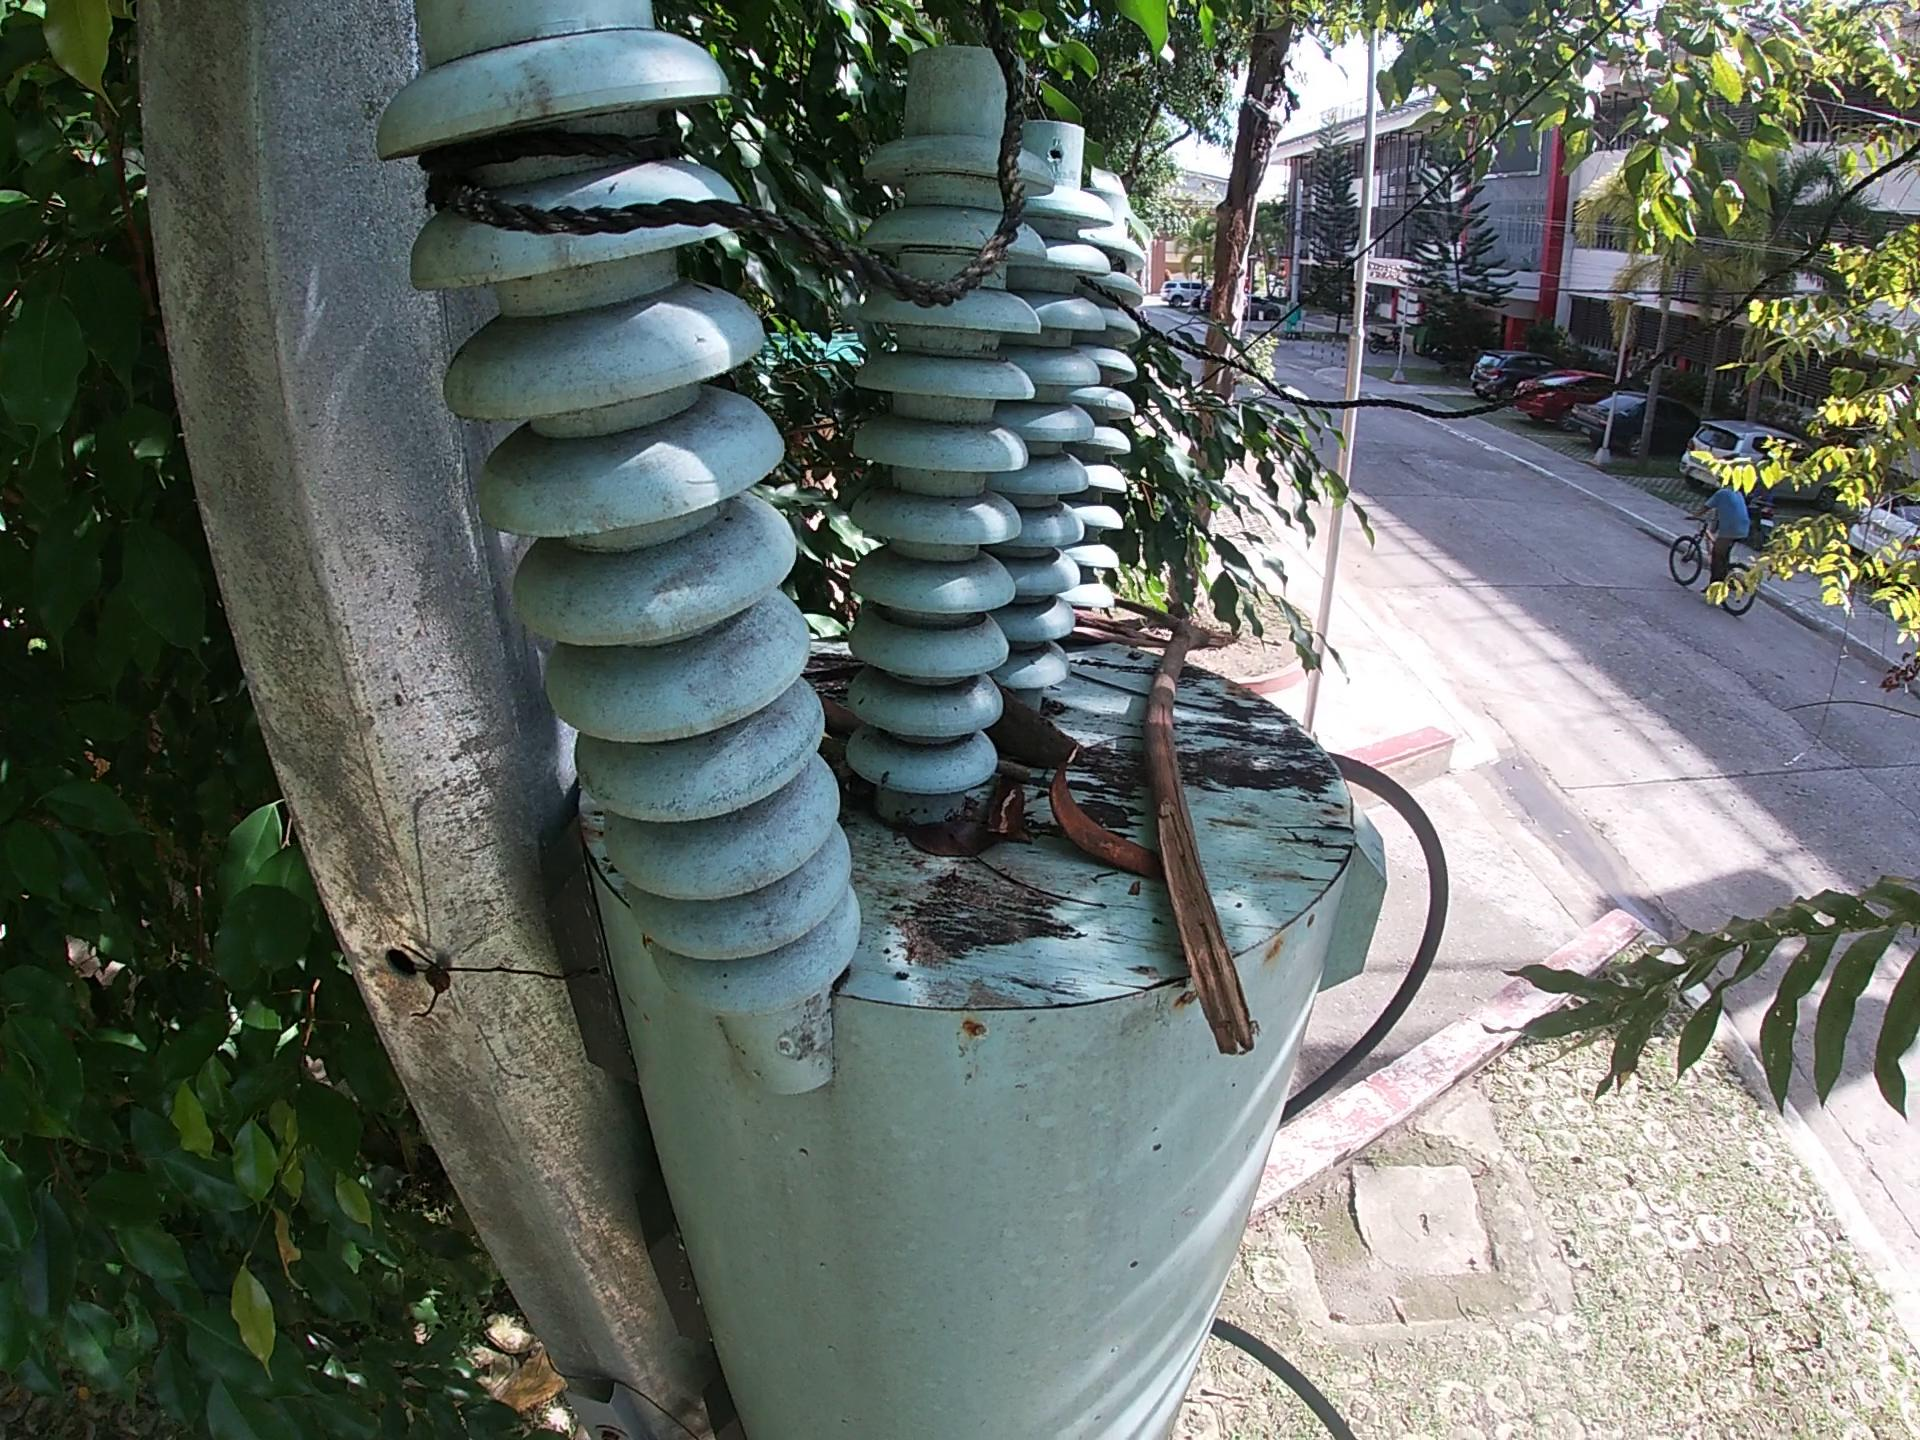leaf: (910, 818, 984, 864)
mahogany fruit: (1039, 746, 1146, 886), (1007, 708, 1092, 784)
tree branch: (1120, 575, 1250, 1110), (962, 858, 1107, 926), (1070, 672, 1231, 717), (986, 781, 1042, 846), (1067, 613, 1163, 650), (804, 658, 868, 691), (816, 706, 857, 734)
